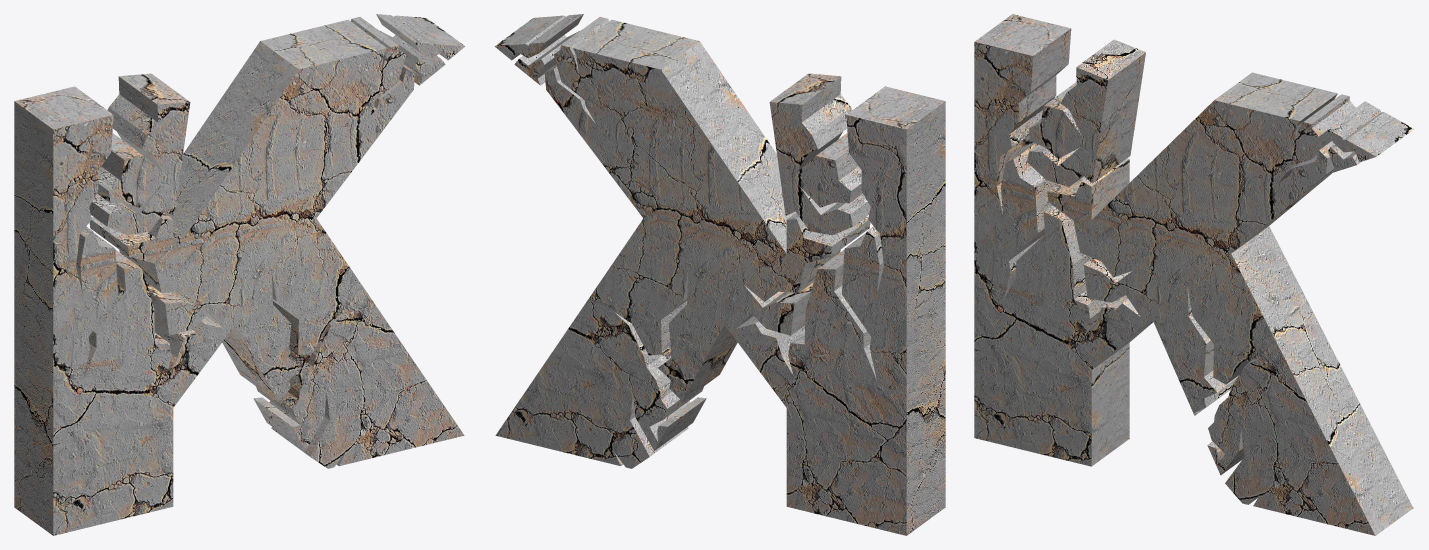
The picture shows the model from 3 angles, left to right: view 1: azimuth 30°, elevation 25°; view 2: azimuth 150°, elevation 25°; view 3: azimuth 330°, elevation 25°; orthographic projection. The views are drawn at different scales.
Parts seen in each view (by area): view 1: K; view 2: K; view 3: K.
Part boxes in pixels (x1,y1,x2,y2): K: [14, 14, 465, 535]; K: [494, 14, 945, 535]; K: [974, 14, 1413, 535].
Size of the model in its own units: 91.68 by 86.36 by 15.
Materials: 1 (1 with a texture image).
